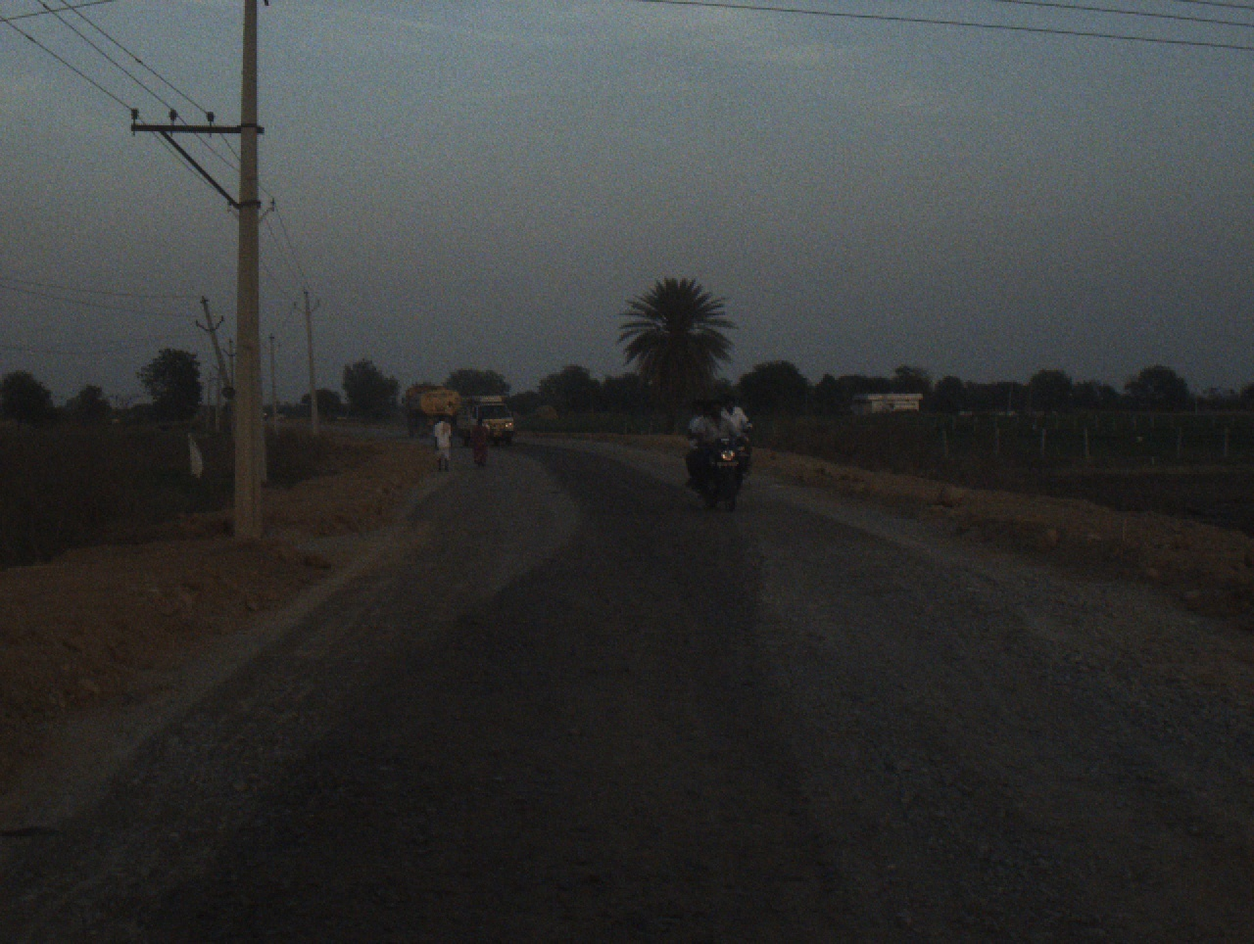motorcycle: (693, 429, 754, 517), (728, 418, 754, 472)
person: (429, 409, 459, 481), (467, 411, 496, 468)
rider: (696, 399, 753, 490), (683, 402, 724, 481), (721, 397, 751, 436)
truck: (401, 383, 465, 433), (461, 392, 518, 444)
